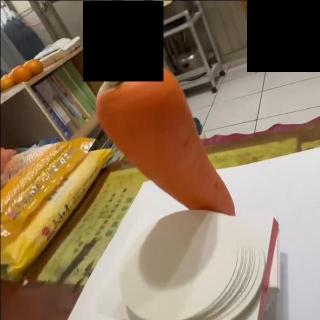carrot: (92, 49, 235, 217)
